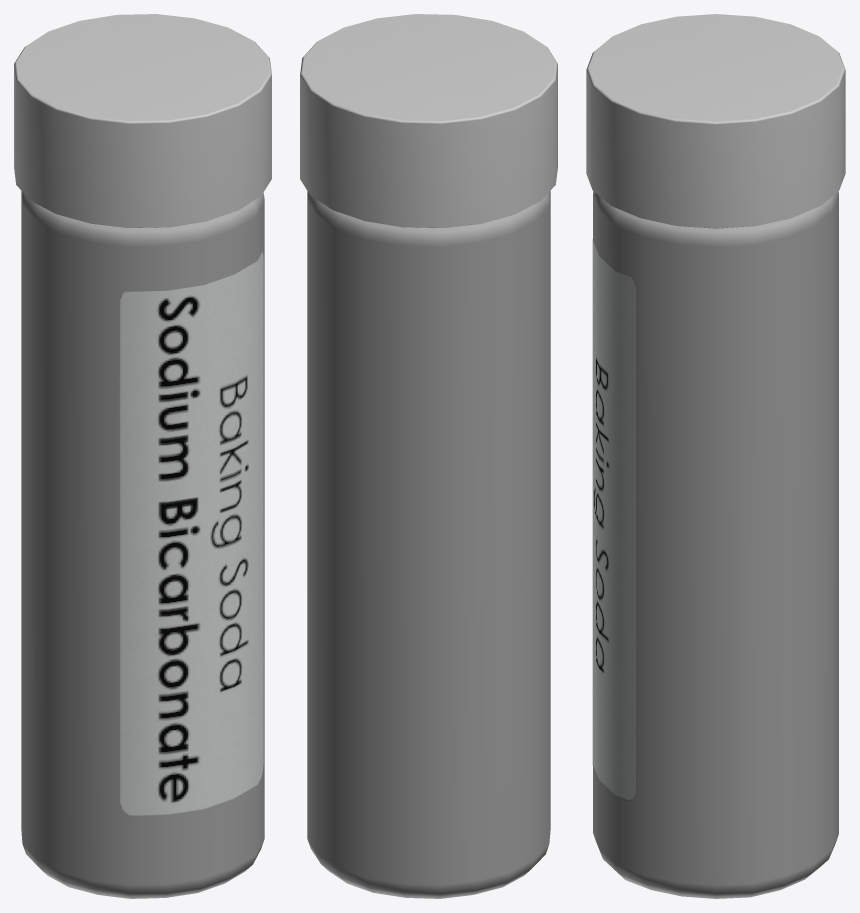
The model's file is Baking_soda_container_S1.fbx.
3 renders of one model, left to right at view 1: azimuth 30°, elevation 25°; view 2: azimuth 150°, elevation 25°; view 3: azimuth 270°, elevation 25°, orthographic.
Parts seen in each view (by area): view 1: Baking_soda_Vial, Baking_soda_Label, Baking_soda_Cap; view 2: Baking_soda_Vial, Baking_soda_Cap; view 3: Baking_soda_Vial, Baking_soda_Cap, Baking_soda_Label.
Part boxes in pixels (x1=…): Baking_soda_Vial: x1=21, y1=191, x2=264, y2=898; Baking_soda_Label: x1=119, y1=251, x2=263, y2=816; Baking_soda_Cap: x1=14, y1=14, x2=271, y2=228; Baking_soda_Vial: x1=307, y1=191, x2=550, y2=898; Baking_soda_Cap: x1=300, y1=14, x2=557, y2=228; Baking_soda_Vial: x1=593, y1=191, x2=838, y2=898; Baking_soda_Cap: x1=586, y1=14, x2=845, y2=228; Baking_soda_Label: x1=592, y1=239, x2=636, y2=800.
Size of the model in its own units: 2.88 by 9.62 by 2.88.
